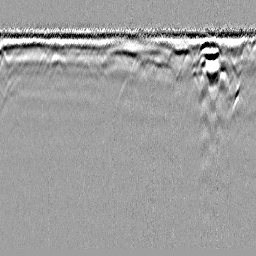cavity: (115, 76, 140, 108)
